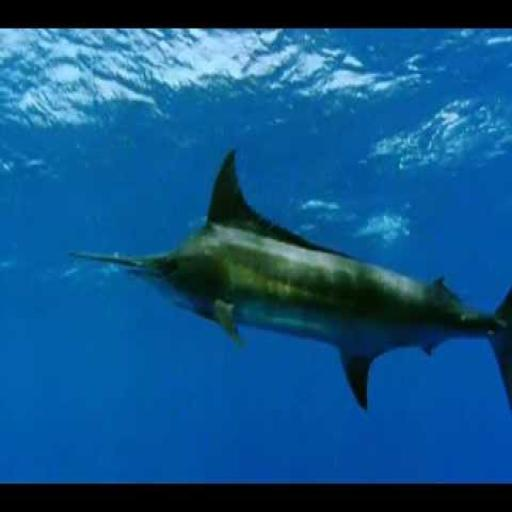swimming: (66, 145, 511, 415)
